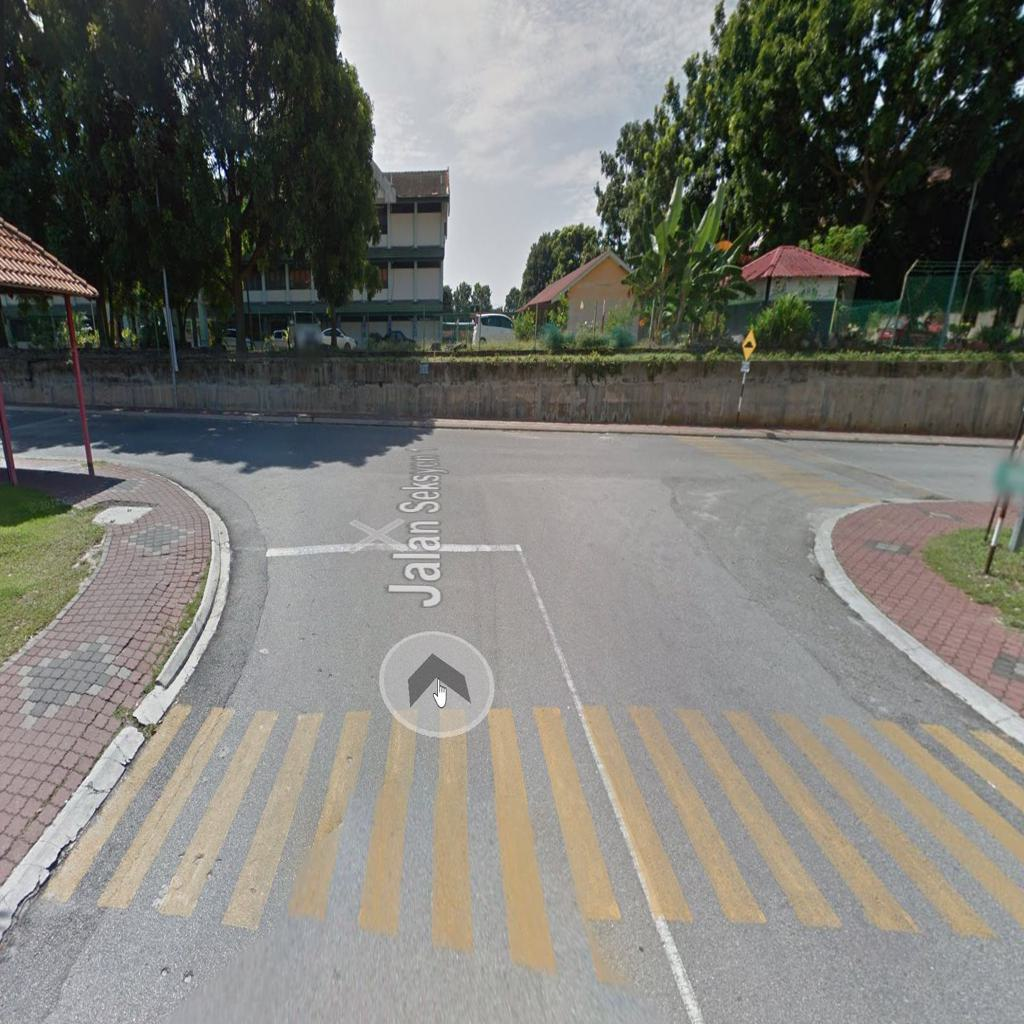Junction: (81, 366, 330, 609), (719, 420, 1018, 606)
